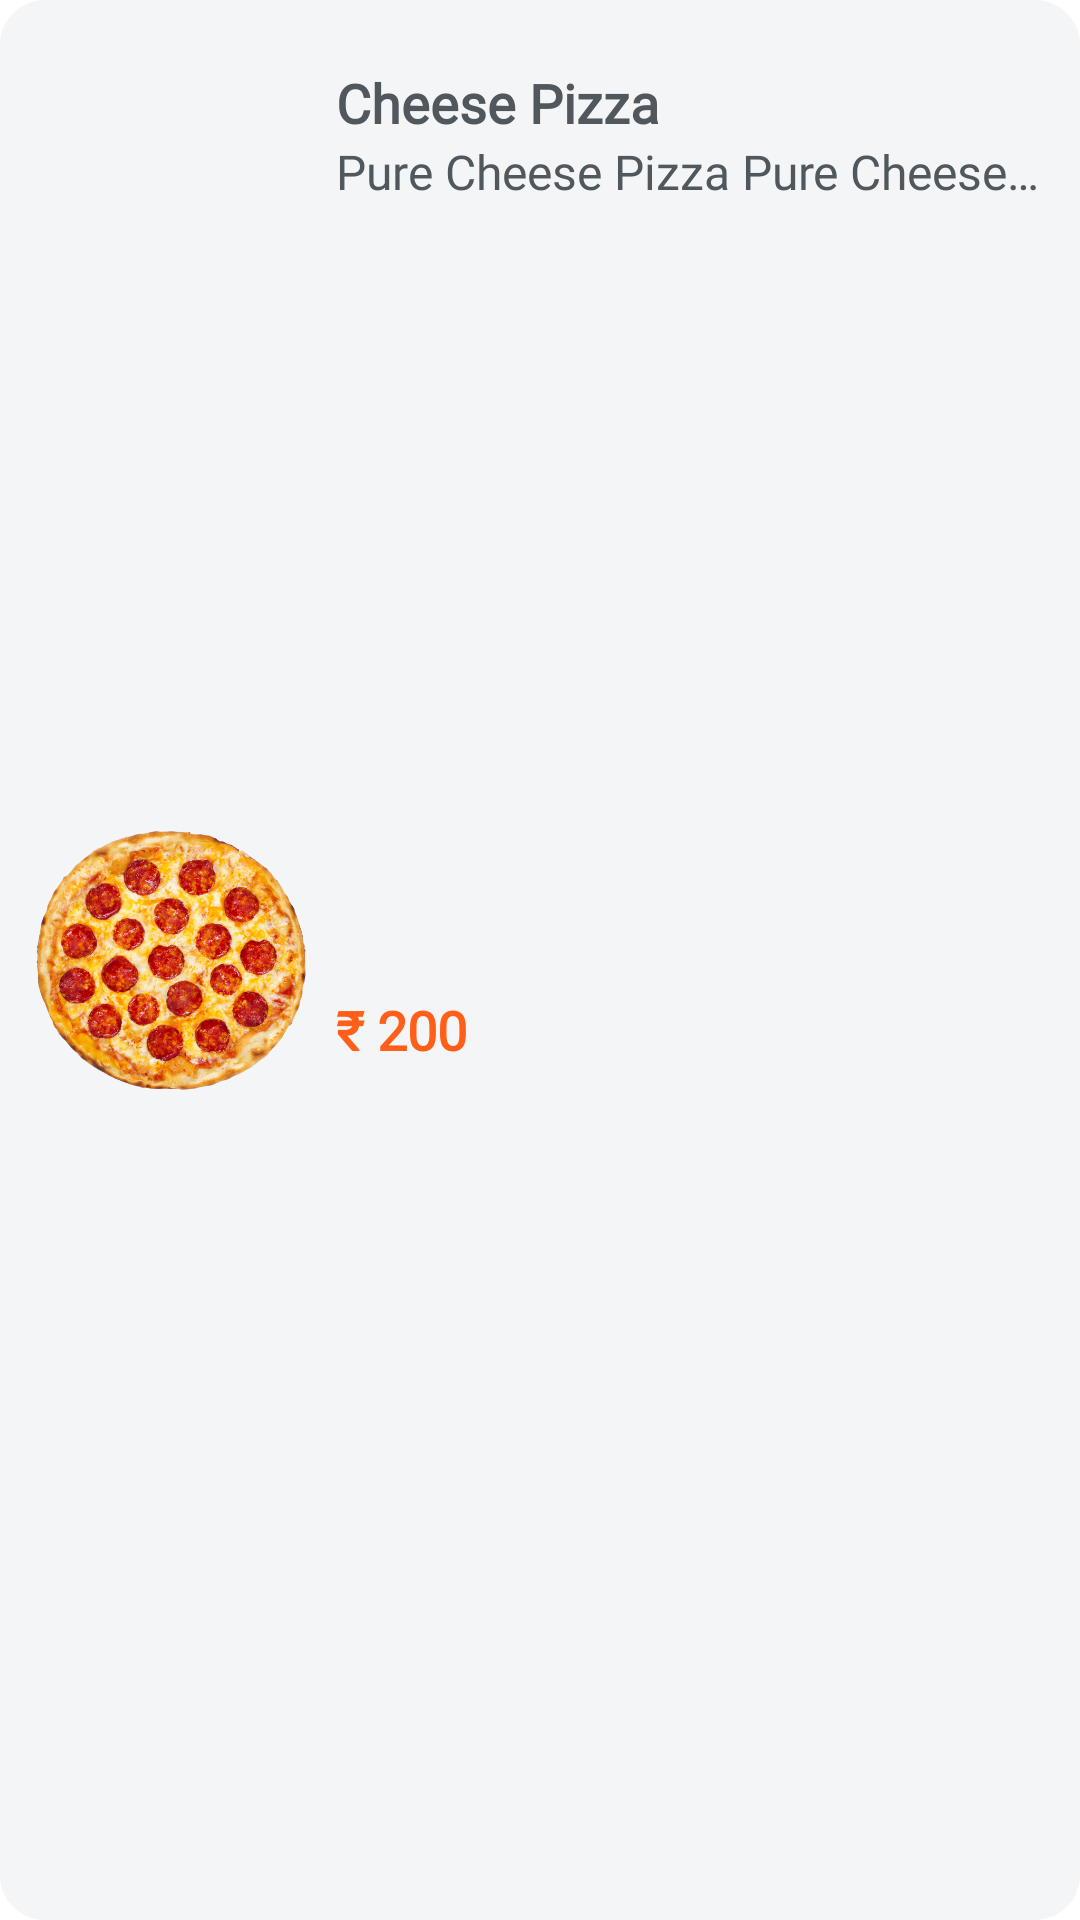

Point at icon controls on the screen. Image size 1080*1920, points as [x,y].
pepperoni pizza: [171,960]
